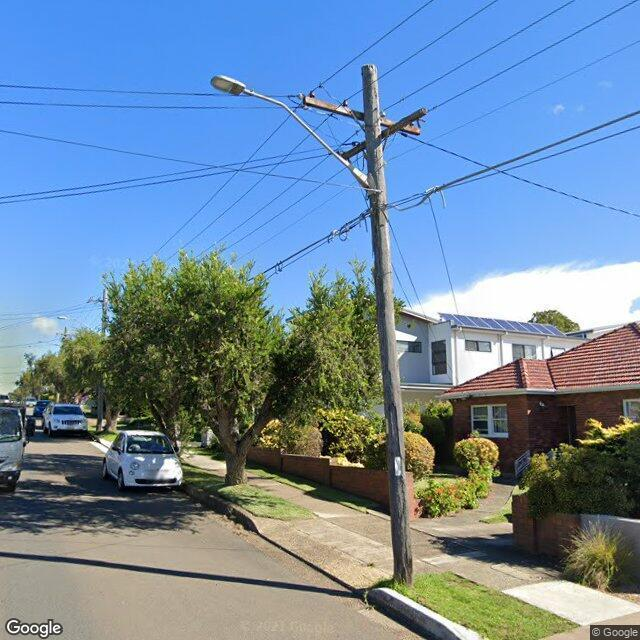crossarm: (300, 93, 428, 137), (340, 106, 430, 160), (88, 299, 105, 303)
streetlight: (210, 75, 379, 195), (57, 316, 101, 337)
timber-pole: (361, 62, 413, 581), (96, 289, 109, 433)
